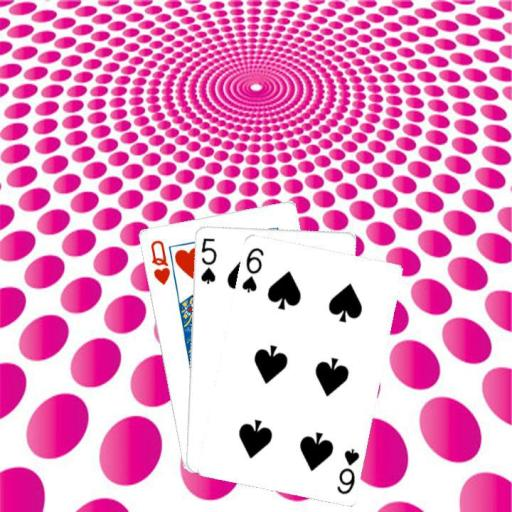5S: (197, 234, 218, 285)
6S: (334, 445, 361, 496), (238, 244, 265, 294)
QH: (147, 236, 172, 286)
